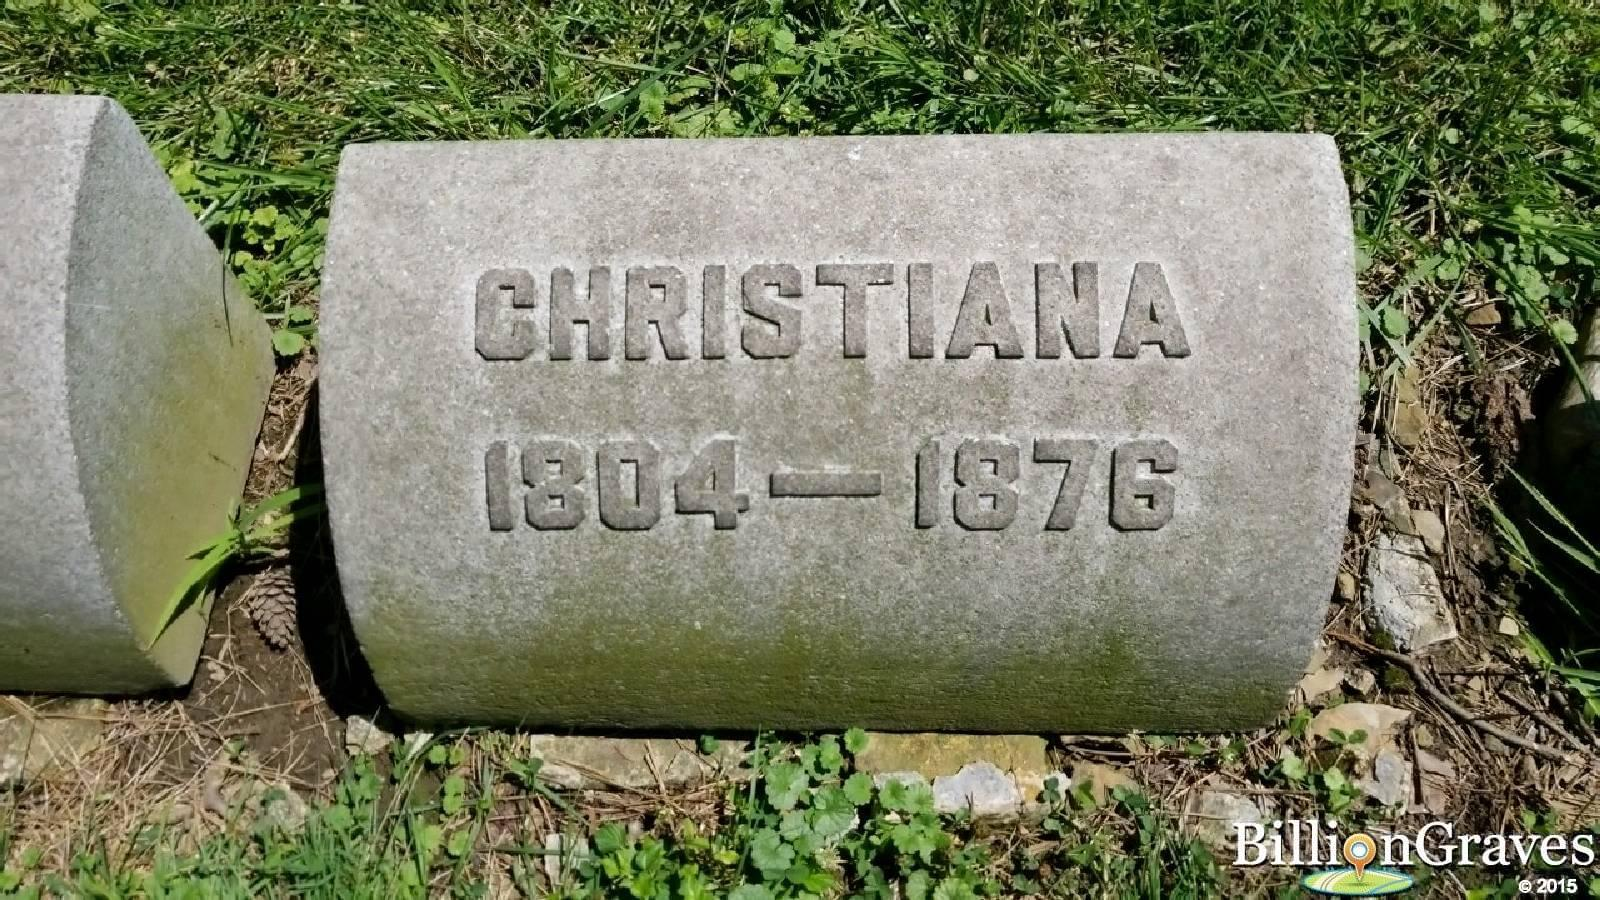upright: (281, 90, 1407, 760)
